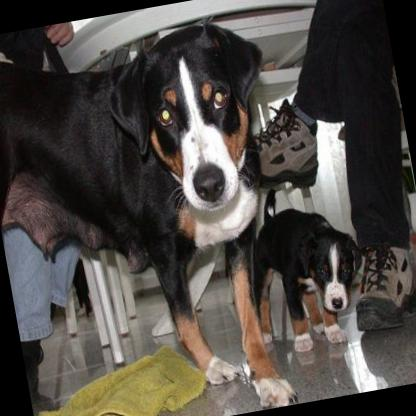Appenzeller: (0, 3, 323, 416), (237, 194, 372, 355)
